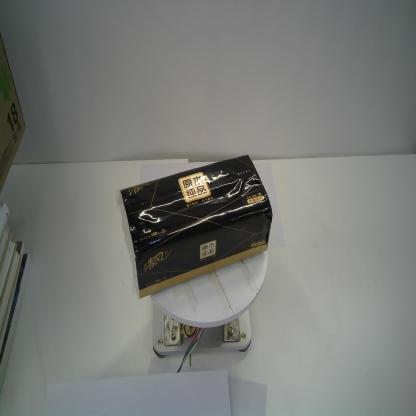Tissue: (114, 152, 274, 300)
